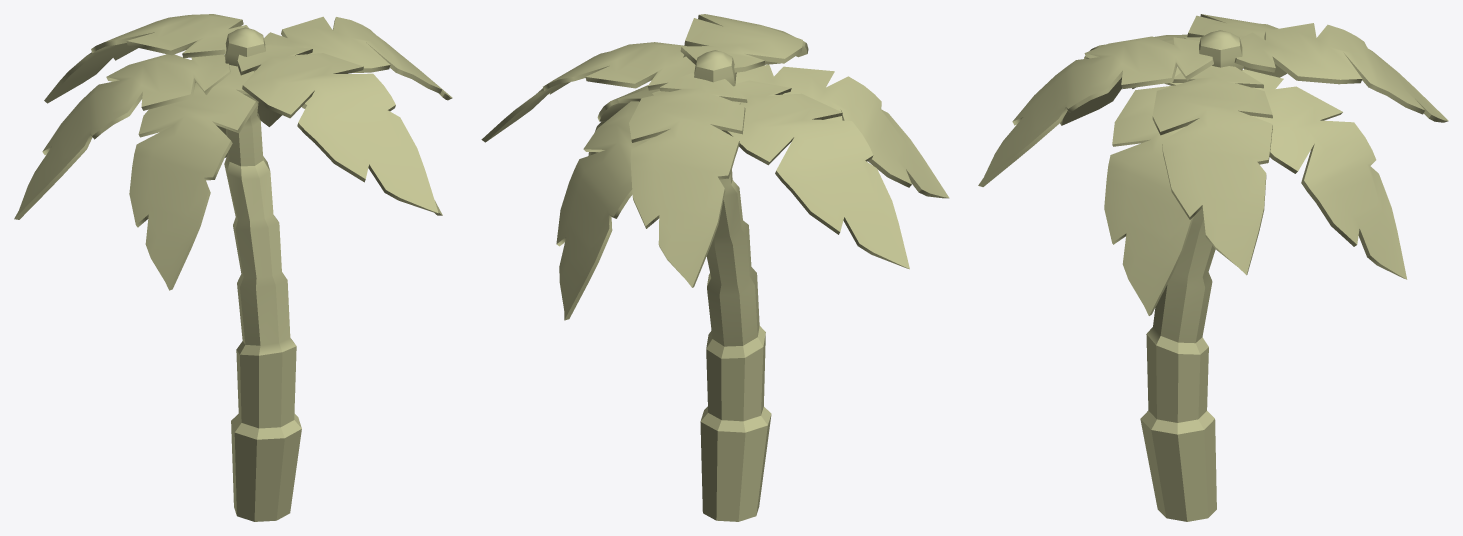
The model's file is Palm_Tree_FBX.fbx.
3 views of the same model, side by side, from view 1: azimuth 30°, elevation 25°; view 2: azimuth 150°, elevation 25°; view 3: azimuth 270°, elevation 25° (orthographic).
Parts seen in each view (by area): view 1: polySurface9; view 2: polySurface9; view 3: polySurface9.
Part boxes in pixels (bbox=[...]): polySurface9: bbox=[14, 14, 452, 521]; polySurface9: bbox=[481, 14, 949, 521]; polySurface9: bbox=[978, 14, 1448, 521].
Size of the model in its own units: 13.63 by 14.08 by 12.59.
